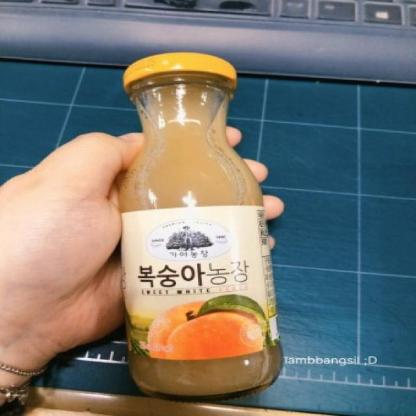Glass Bottle: (119, 53, 284, 399)
